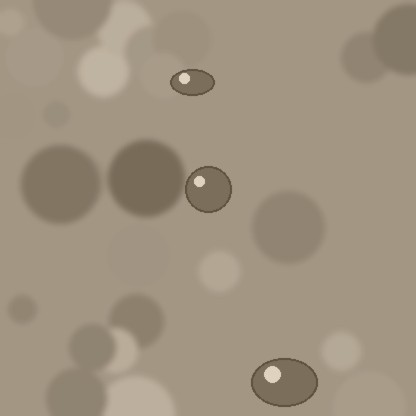gota: (251, 360, 317, 410), (185, 168, 231, 216), (170, 70, 214, 98)
